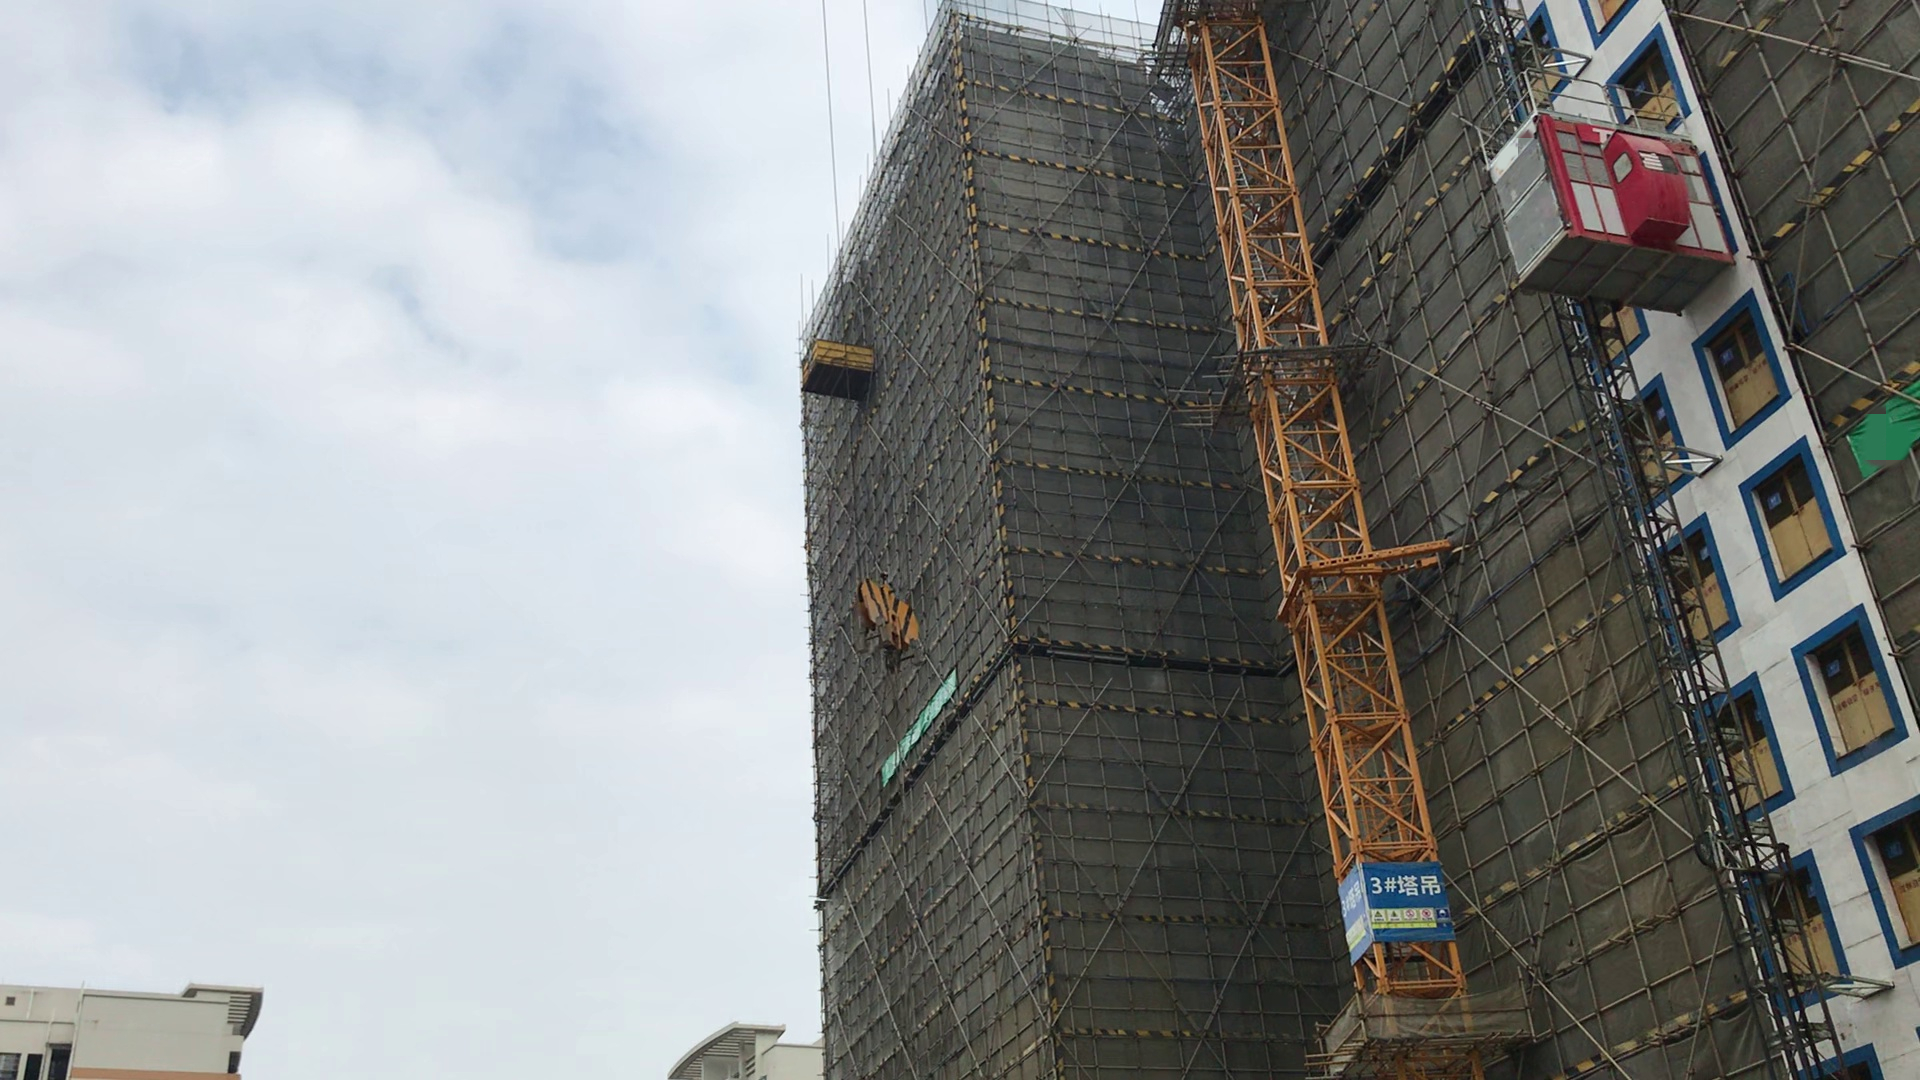hook: (849, 564, 924, 670)
slogan: (880, 678, 953, 783)
